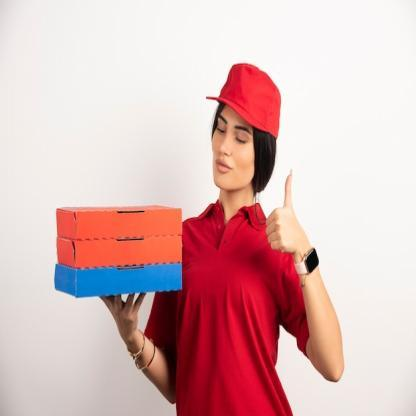thumb_up: (264, 165, 306, 260)
